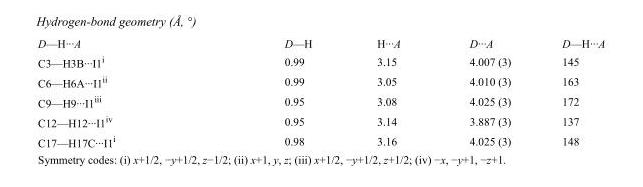table: (37, 36, 604, 148)
table column: (37, 36, 199, 148), (199, 36, 343, 148), (434, 36, 535, 148), (343, 36, 434, 148), (535, 36, 604, 148)
table row: (37, 51, 604, 71), (37, 71, 604, 91), (37, 91, 604, 111), (37, 111, 604, 131), (37, 131, 604, 148), (37, 36, 604, 51)
